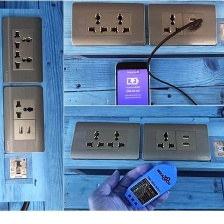phone: (112, 58, 152, 121)
three_eye_plug: (68, 0, 148, 48), (144, 0, 219, 49), (66, 119, 142, 162), (139, 121, 213, 164), (2, 84, 46, 155), (0, 14, 44, 85)
